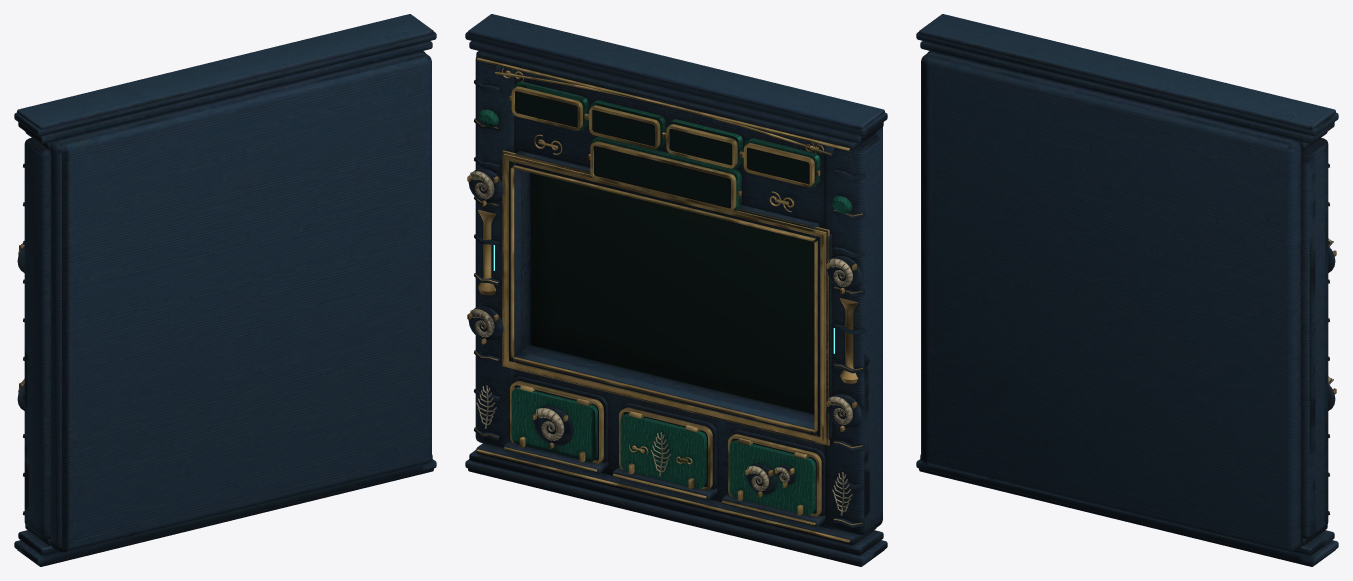
3 renders of one model, left to right at view 1: azimuth 30°, elevation 25°; view 2: azimuth 150°, elevation 25°; view 3: azimuth 330°, elevation 25°, orthographic.
Parts seen in each view (by area): view 1: Fossil_slate; view 2: Fossil_slate, Display_inset, Specimen_brass, Emerald_mineral, Fossil_limestone; view 3: Fossil_slate.
Boxes of the visible parts, left/top/right/bottom form: Fossil_slate: left=14, top=14, right=436, bottom=566; Fossil_slate: left=465, top=14, right=887, bottom=566; Display_inset: left=515, top=91, right=816, bottom=413; Specimen_brass: left=467, top=57, right=862, bottom=542; Emerald_mineral: left=478, top=81, right=852, bottom=514; Fossil_limestone: left=470, top=171, right=852, bottom=515; Fossil_slate: left=916, top=14, right=1338, bottom=566.
Bounding box in the file's own units: 9.1 × 9.6 × 1.67.
Materials: 6 (5 with a texture image).
